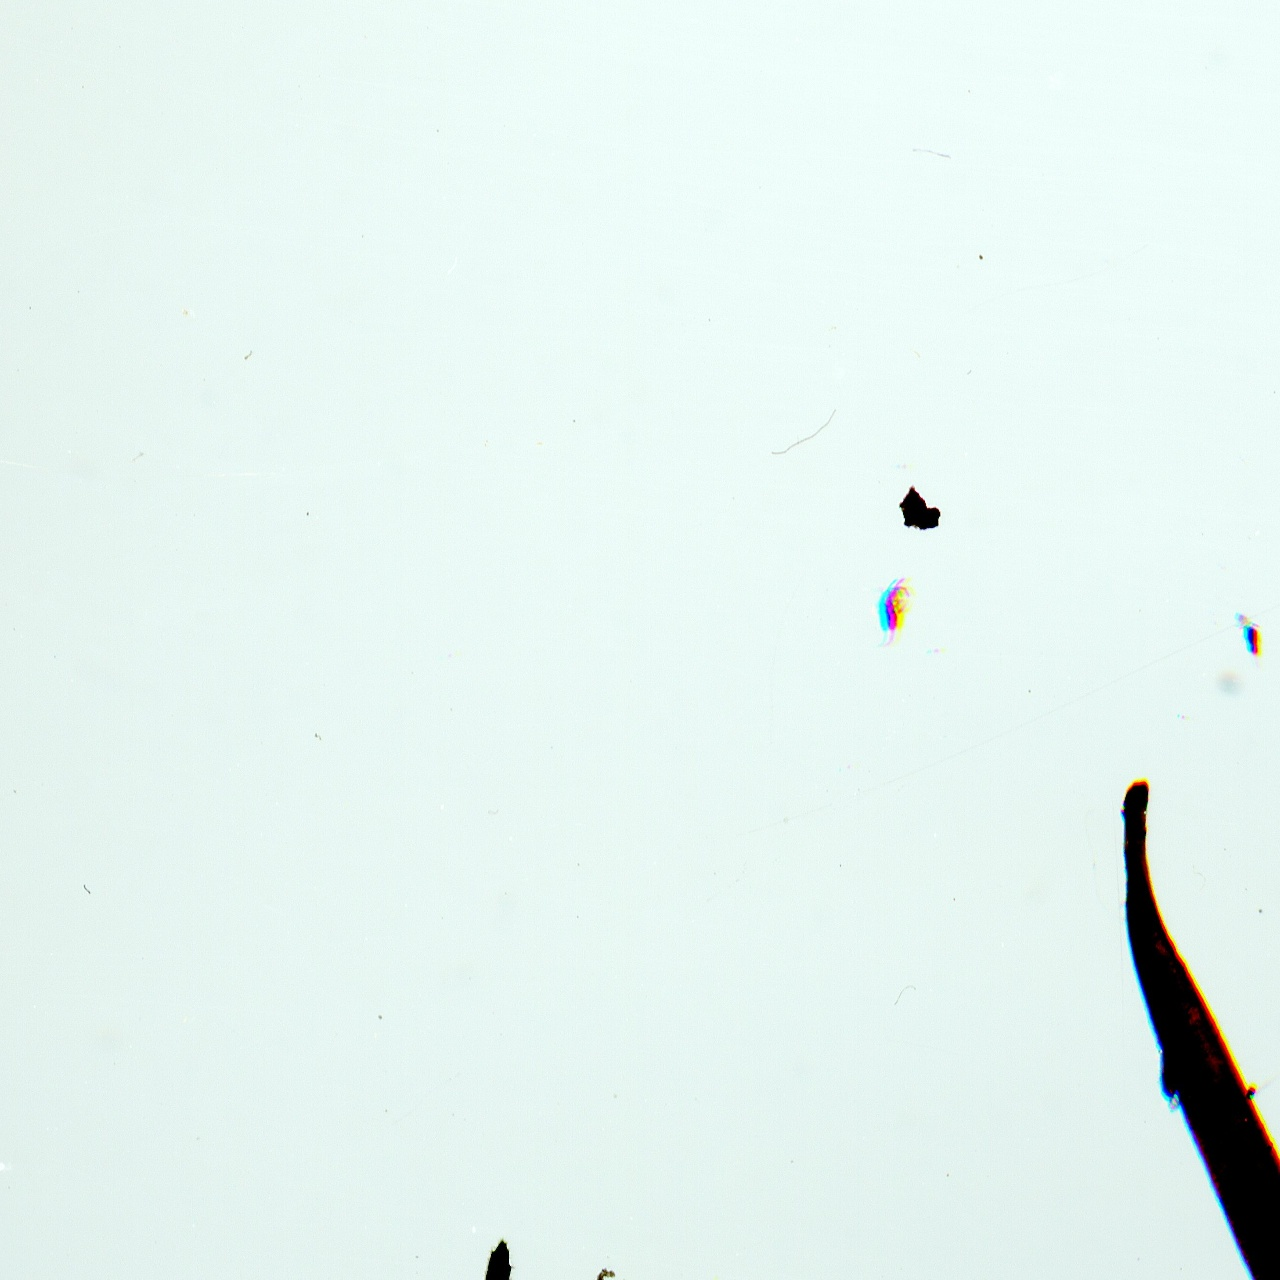arthropod: (870, 570, 920, 652), (454, 1231, 532, 1280), (1237, 613, 1267, 670)
